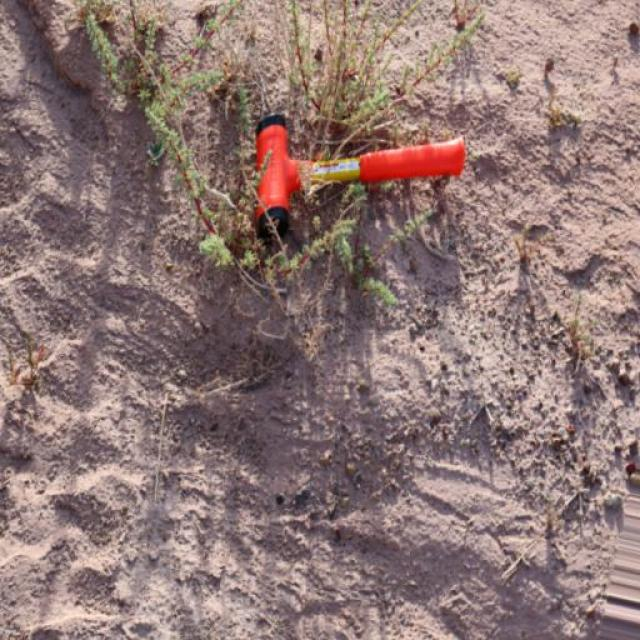mallet: (250, 111, 466, 242)
